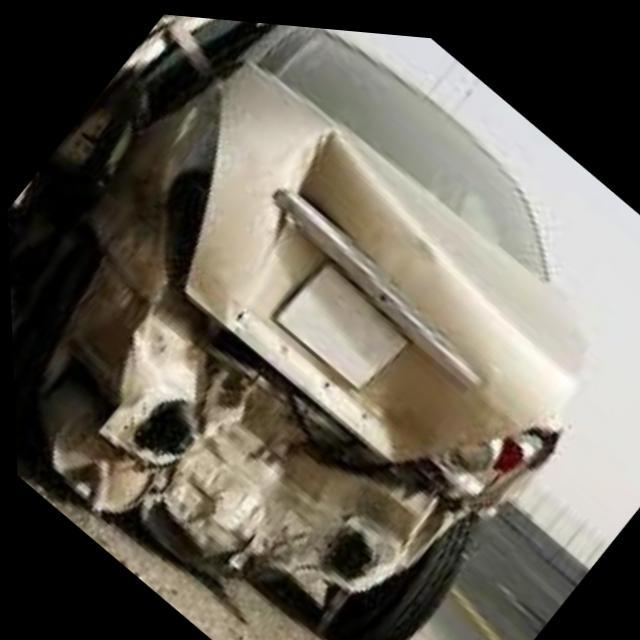crash: (6, 54, 573, 581)
